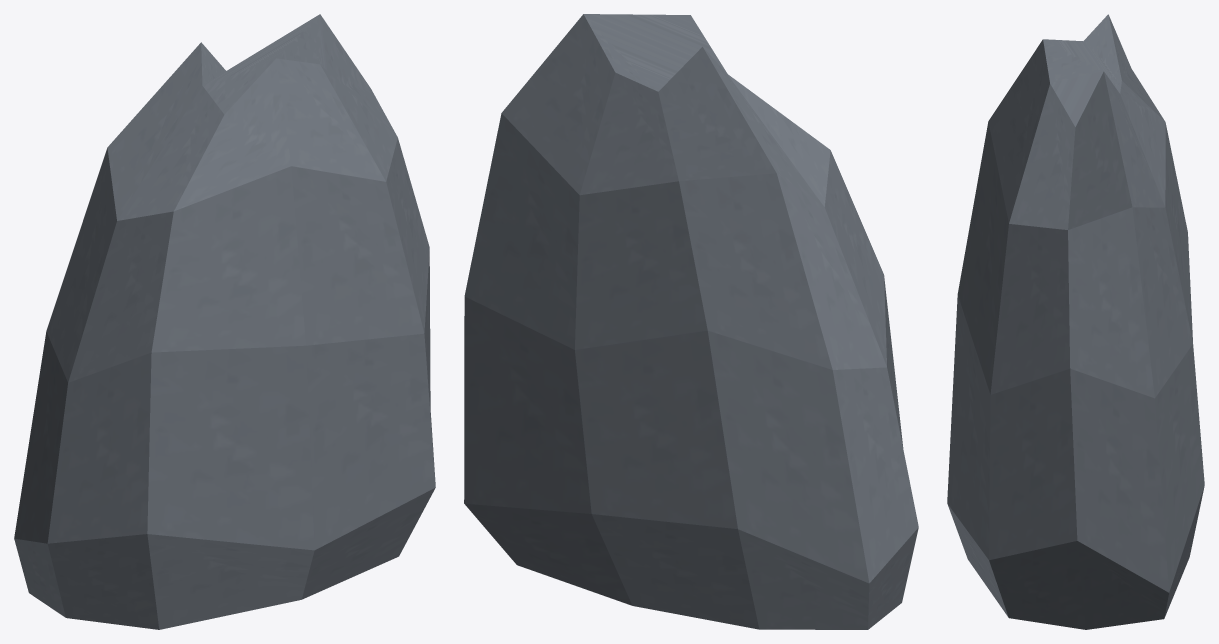
Rendered from showcase_rock_face.glb.
3 renders of one model, left to right at view 1: azimuth 30°, elevation 25°; view 2: azimuth 150°, elevation 25°; view 3: azimuth 270°, elevation 25°, orthographic. The views are drawn at different scales.
Parts seen in each view (by area): view 1: outdoor_showcase_rock_face; view 2: outdoor_showcase_rock_face; view 3: outdoor_showcase_rock_face.
Boxes of the visible parts, bbox=[...] form: outdoor_showcase_rock_face: bbox=[14, 14, 435, 629]; outdoor_showcase_rock_face: bbox=[464, 14, 918, 629]; outdoor_showcase_rock_face: bbox=[947, 14, 1204, 629].
Bounding box in the file's own units: 4 × 5 × 2.2.
1 material, 1 textured.
